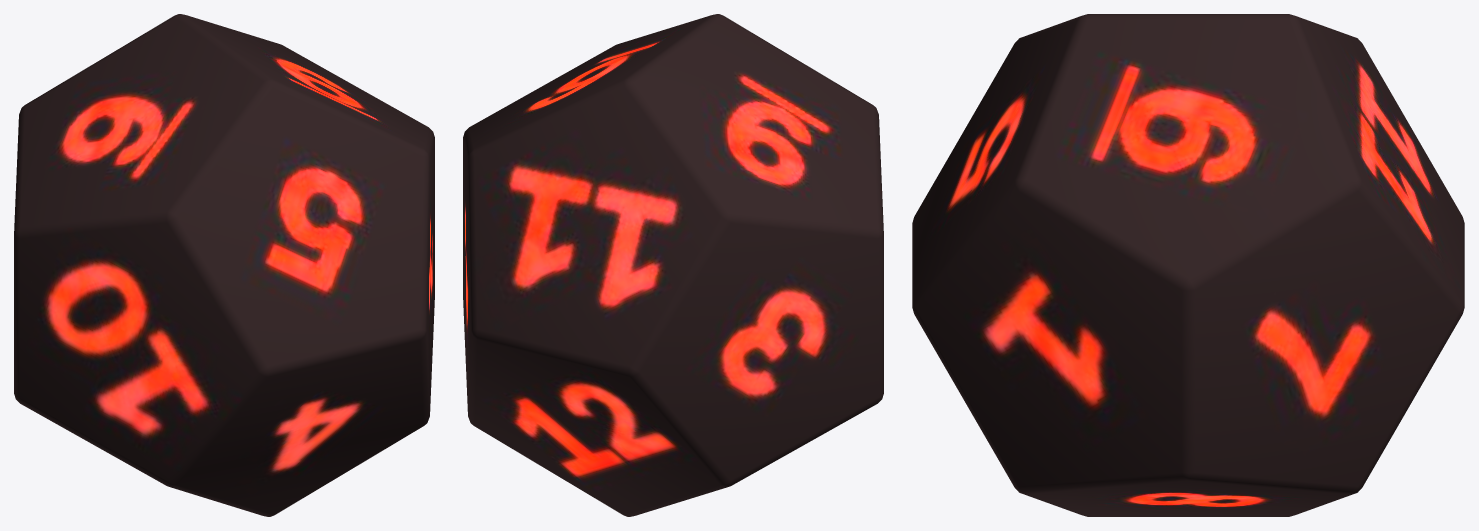
3 renders of one model, left to right at view 1: azimuth 30°, elevation 25°; view 2: azimuth 150°, elevation 25°; view 3: azimuth 270°, elevation 25°, orthographic. The views are drawn at different scales.
Parts seen in each view (by area): view 1: 12Yellow; view 2: 12Yellow; view 3: 12Yellow.
Part boxes in pixels (x1,y1,x2,y2): 12Yellow: (14, 14, 434, 516); 12Yellow: (463, 14, 883, 516); 12Yellow: (912, 14, 1464, 516).
Size of the model in its own units: 1.41 by 1.41 by 1.41.
Materials: 1 (1 with a texture image).
